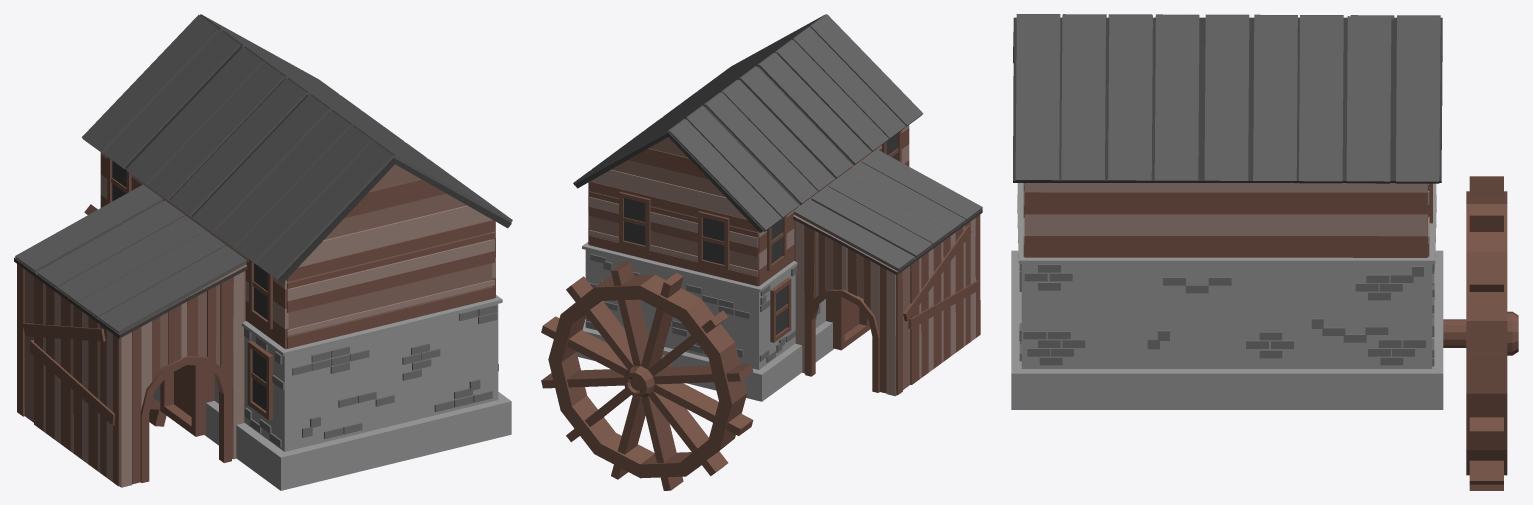
Rendered from House_3.FBX.
The picture shows the model from 3 angles, left to right: view 1: azimuth 30°, elevation 25°; view 2: azimuth 150°, elevation 25°; view 3: azimuth 270°, elevation 25°; orthographic projection. The views are drawn at different scales.
Visible parts, largest first — view 1: House_3; view 2: House_3; view 3: House_3.
Part boxes in pixels (box(x1,y1,x2,y2)): House_3: box(14, 14, 512, 490); House_3: box(541, 14, 982, 490); House_3: box(1011, 14, 1518, 490).
Size of the model in its own units: 592 by 652 by 657.
